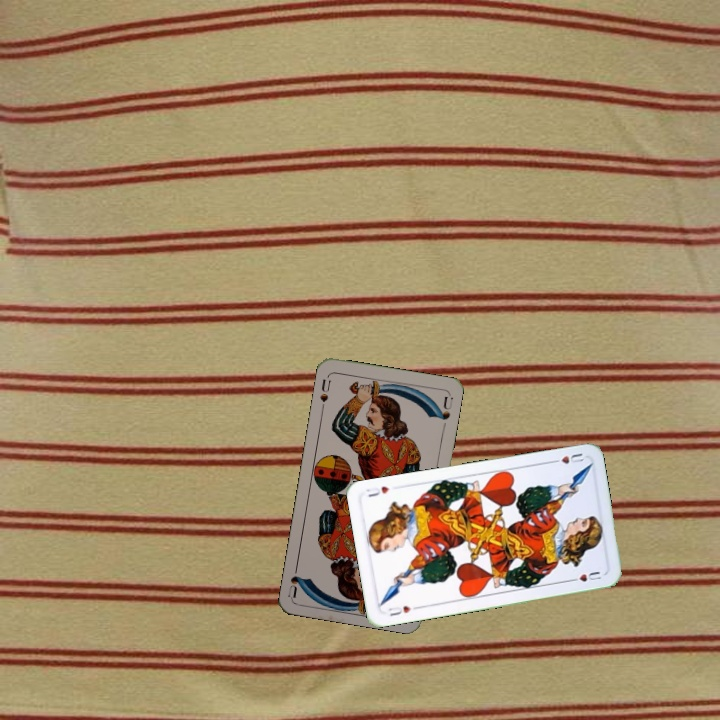HU: (547, 449, 586, 466), (384, 602, 421, 619)
SU: (316, 372, 333, 412)
